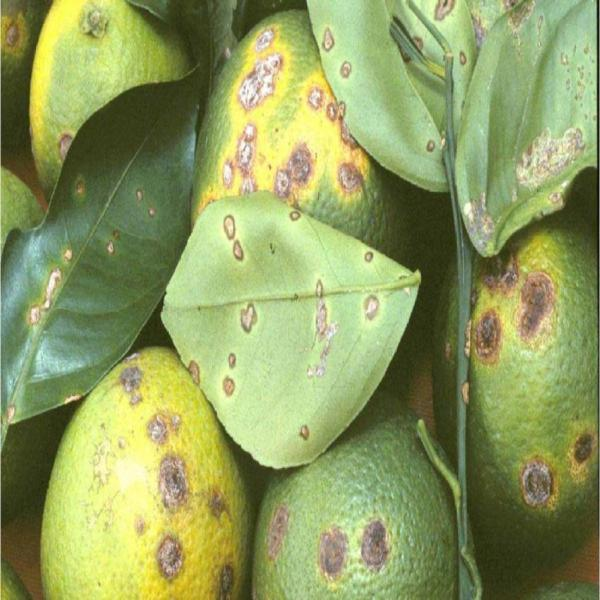Trips: (189, 0, 413, 340), (427, 198, 598, 574), (36, 336, 253, 596), (251, 384, 473, 599), (29, 0, 207, 210), (0, 0, 54, 142)
